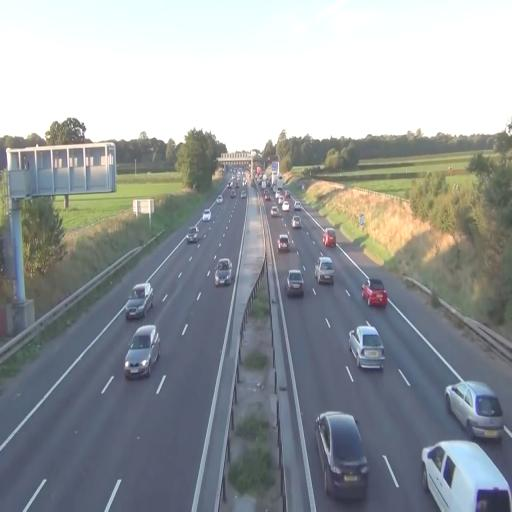vehicle: (422, 438, 511, 510), (421, 441, 511, 511), (314, 410, 369, 502), (315, 412, 367, 499), (445, 380, 504, 442), (444, 382, 503, 439), (123, 324, 160, 378), (348, 323, 386, 372), (124, 325, 159, 378), (349, 326, 384, 369), (126, 281, 154, 319), (125, 284, 152, 319), (125, 286, 149, 318), (362, 281, 388, 309), (361, 279, 386, 307), (214, 257, 233, 286), (317, 257, 335, 286), (286, 269, 304, 298), (284, 270, 303, 297), (314, 257, 333, 283), (215, 258, 232, 286), (126, 297, 146, 320), (277, 232, 292, 252), (322, 228, 335, 247), (290, 212, 302, 232), (187, 229, 201, 244), (277, 234, 289, 251), (186, 227, 197, 243), (186, 231, 196, 243), (291, 216, 301, 228), (202, 210, 210, 221), (281, 200, 289, 211), (270, 206, 278, 216), (273, 188, 280, 199), (270, 173, 276, 185), (276, 177, 282, 189), (293, 202, 300, 211), (263, 190, 269, 200), (216, 195, 222, 204), (230, 190, 236, 198), (277, 196, 283, 204), (260, 181, 265, 189), (240, 190, 245, 198), (284, 190, 289, 198), (262, 173, 266, 182), (234, 181, 238, 188), (228, 182, 232, 188), (257, 178, 261, 184), (266, 181, 270, 187), (272, 187, 276, 193)
